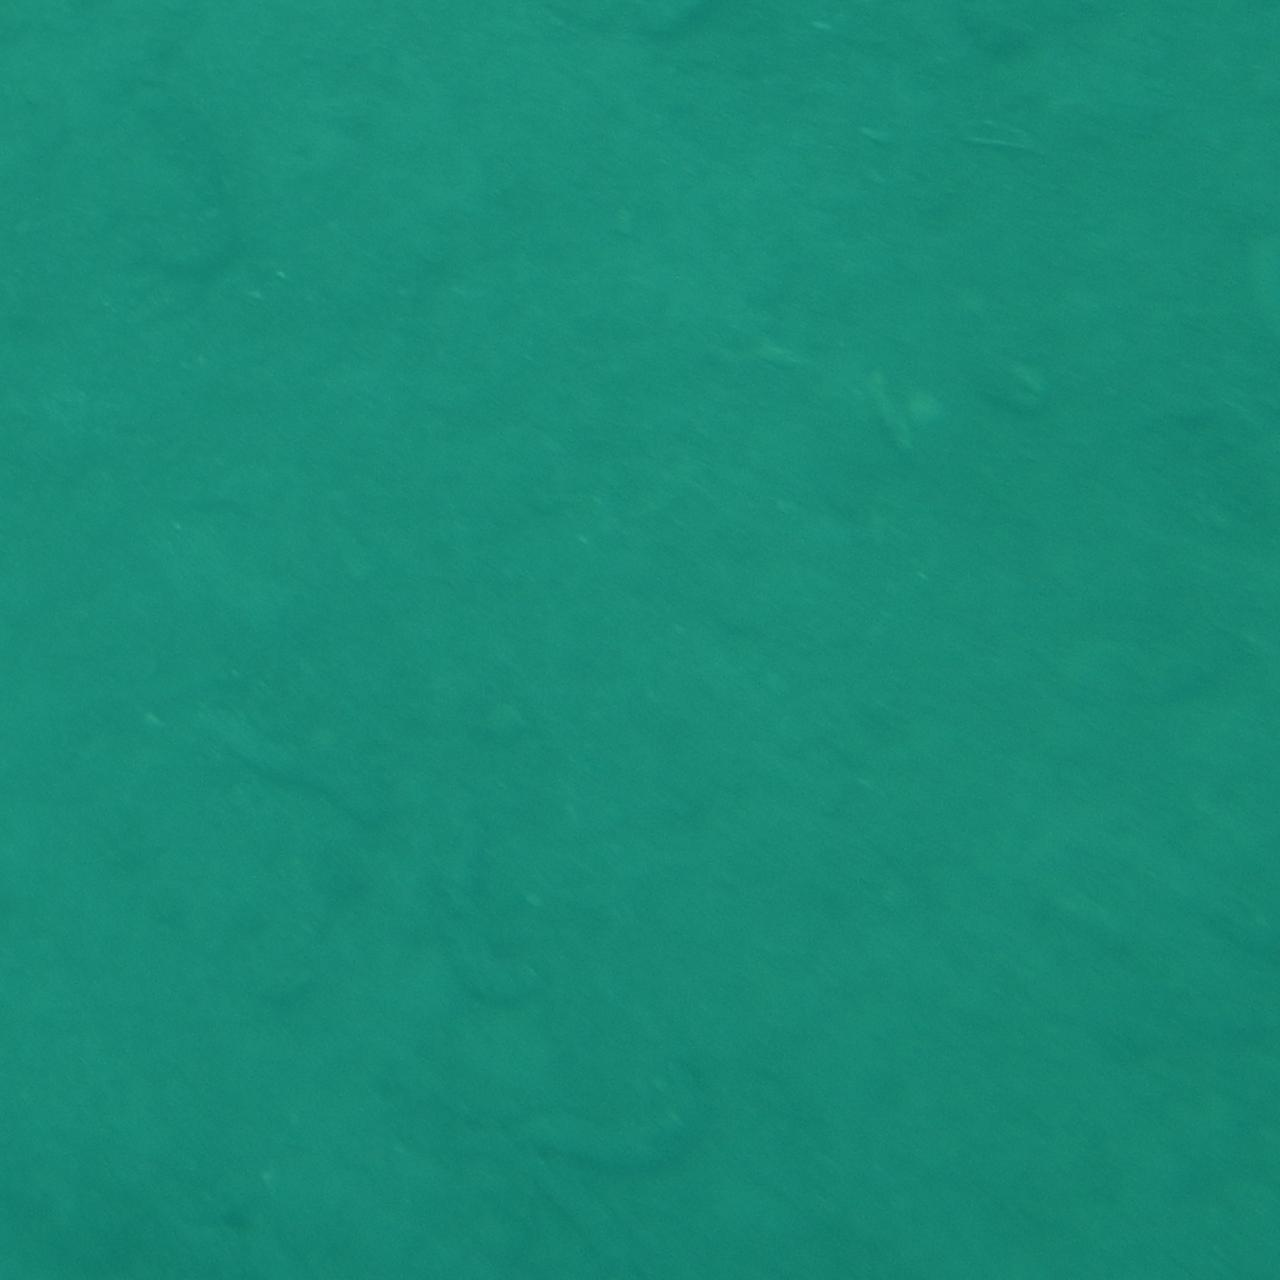Holothuria tubulosa: (520, 1035, 760, 1191)
